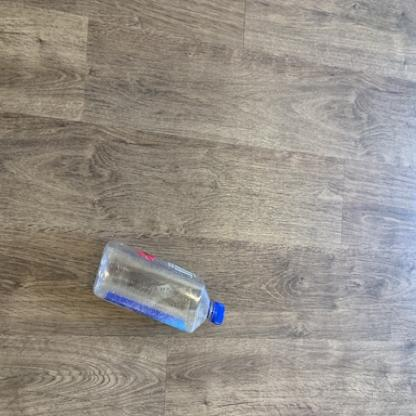trash: (93, 238, 229, 336)
